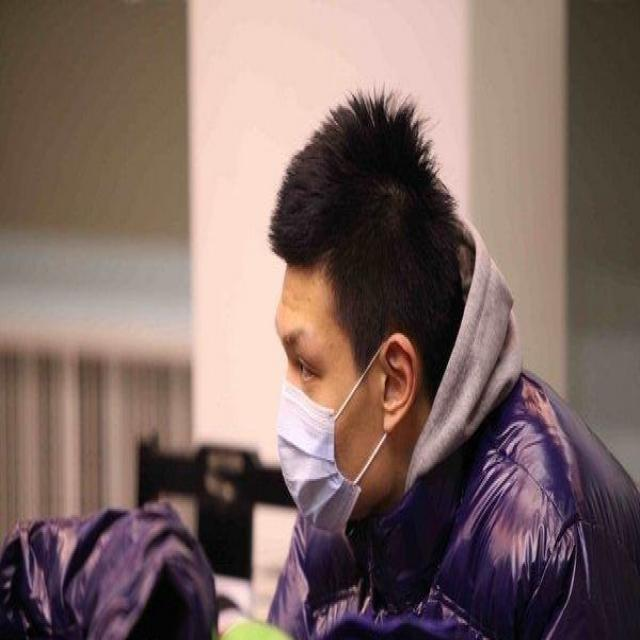mask: (260, 259, 390, 517)
